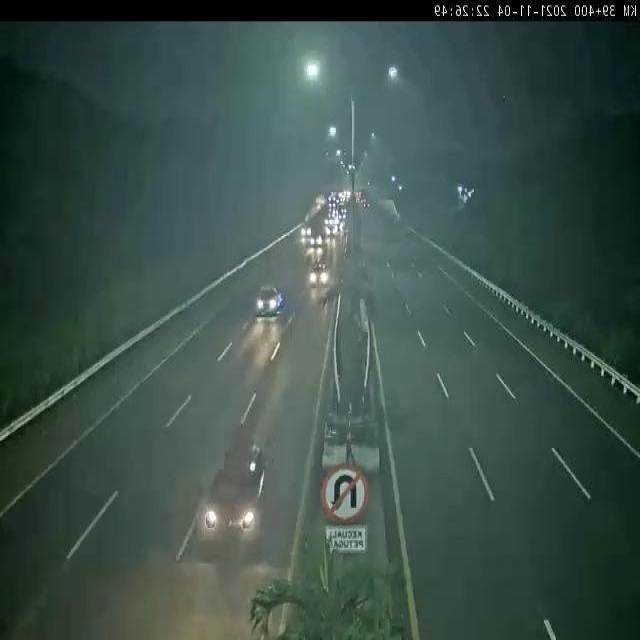Car: (188, 426, 290, 572), (239, 273, 292, 337), (302, 257, 336, 296), (297, 218, 315, 242), (308, 231, 326, 254)
